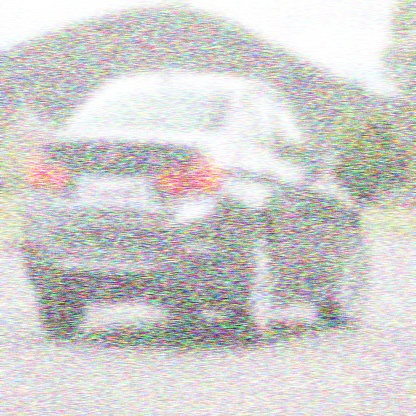Vehicle: (22, 66, 369, 343)
